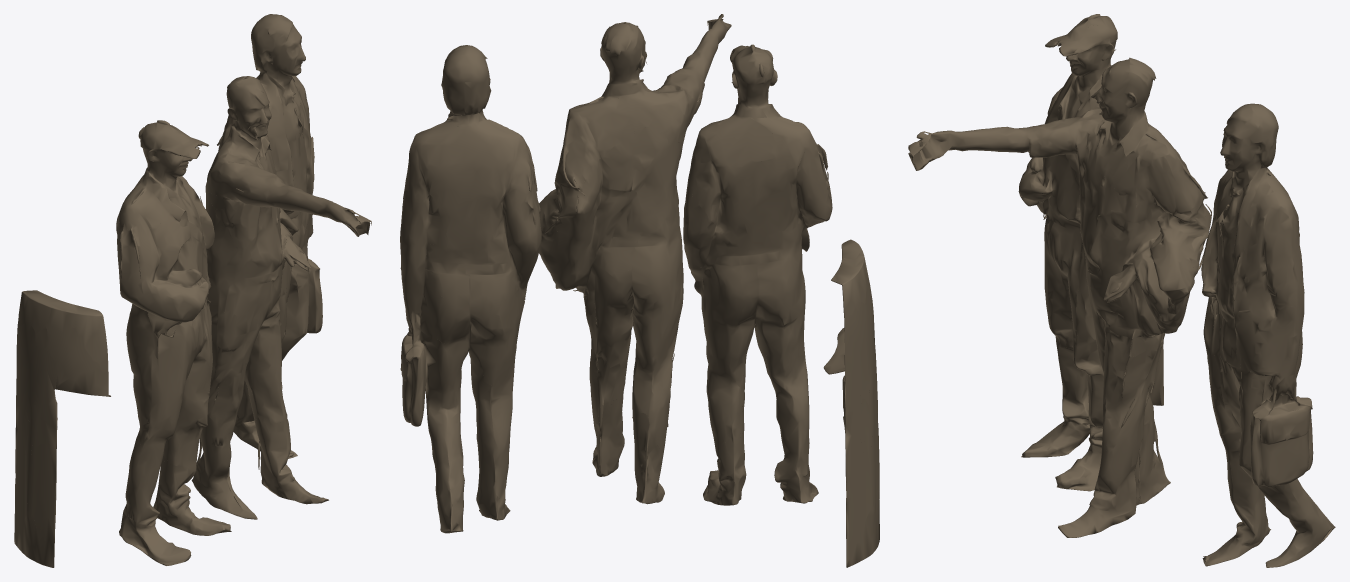
File: enterprise-full-h31.glb
The picture shows the model from 3 angles, left to right: view 1: azimuth 30°, elevation 25°; view 2: azimuth 150°, elevation 25°; view 3: azimuth 270°, elevation 25°; orthographic projection. The views are drawn at different scales.
Parts seen in each view (by area): view 1: tripo_node_cadad794-cdd0-43e0-8baa-f01673397db8; view 2: tripo_node_cadad794-cdd0-43e0-8baa-f01673397db8; view 3: tripo_node_cadad794-cdd0-43e0-8baa-f01673397db8.
Part boxes in pixels (box(x1,y1,x2,y2)): tripo_node_cadad794-cdd0-43e0-8baa-f01673397db8: box(14, 14, 371, 567); tripo_node_cadad794-cdd0-43e0-8baa-f01673397db8: box(400, 14, 879, 567); tripo_node_cadad794-cdd0-43e0-8baa-f01673397db8: box(908, 14, 1335, 567).
Size of the model in its own units: 2.16 by 2.48 by 2.08.
